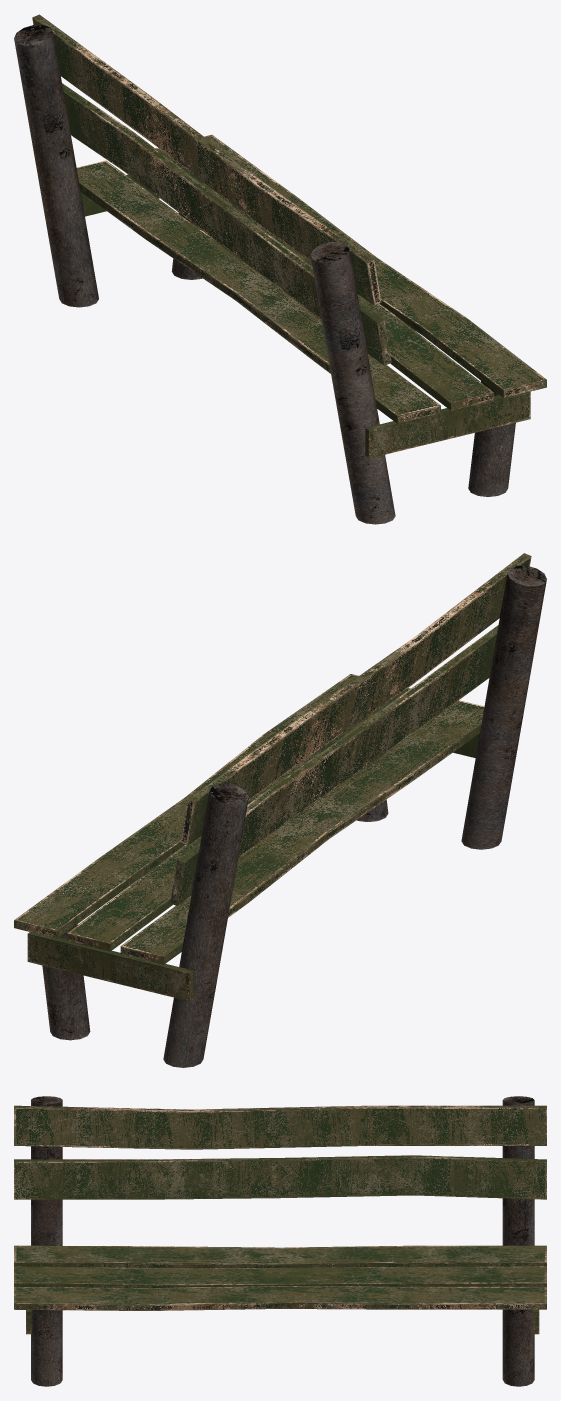
Rendered from lavochka_potertaya.fbx.
3 renders of one model, top to bottom at view 1: azimuth 30°, elevation 25°; view 2: azimuth 150°, elevation 25°; view 3: azimuth 270°, elevation 25°, orthographic. The views are drawn at different scales.
Parts seen in each view (by area): view 1: bench_low; view 2: bench_low; view 3: bench_low.
Boxes of the visible parts, <box> form: bench_low: <box>14,14,546,524</box>; bench_low: <box>14,553,546,1067</box>; bench_low: <box>14,1096,546,1386</box>.
Bounding box in the file's own units: 38.57 × 47.43 × 103.
1 material, 1 textured.
